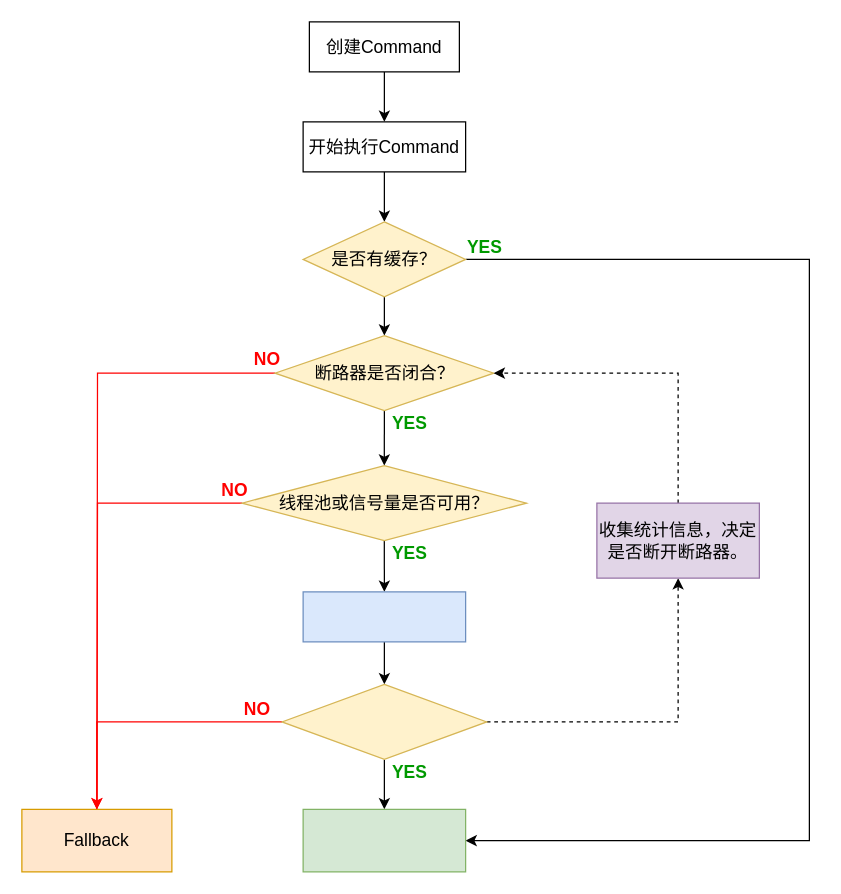
Some shapes in this 841 by 894 pixel diagram are drawn without their labels. Each missing label, with the centre of its shape:
"将结果返回给调用者，并缓存结果。" goes at (x=384, y=840).
"调用是否成功？" goes at (x=384, y=721).
"调用远程服务" goes at (x=384, y=616).
